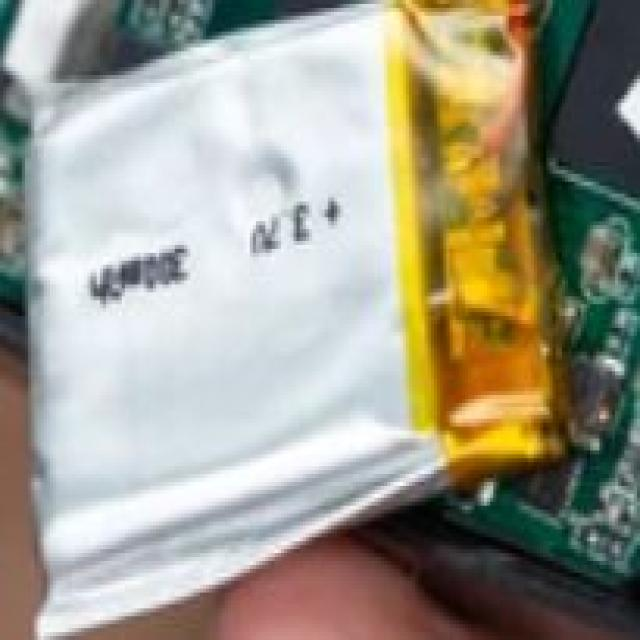electronic: (16, 22, 640, 640)
